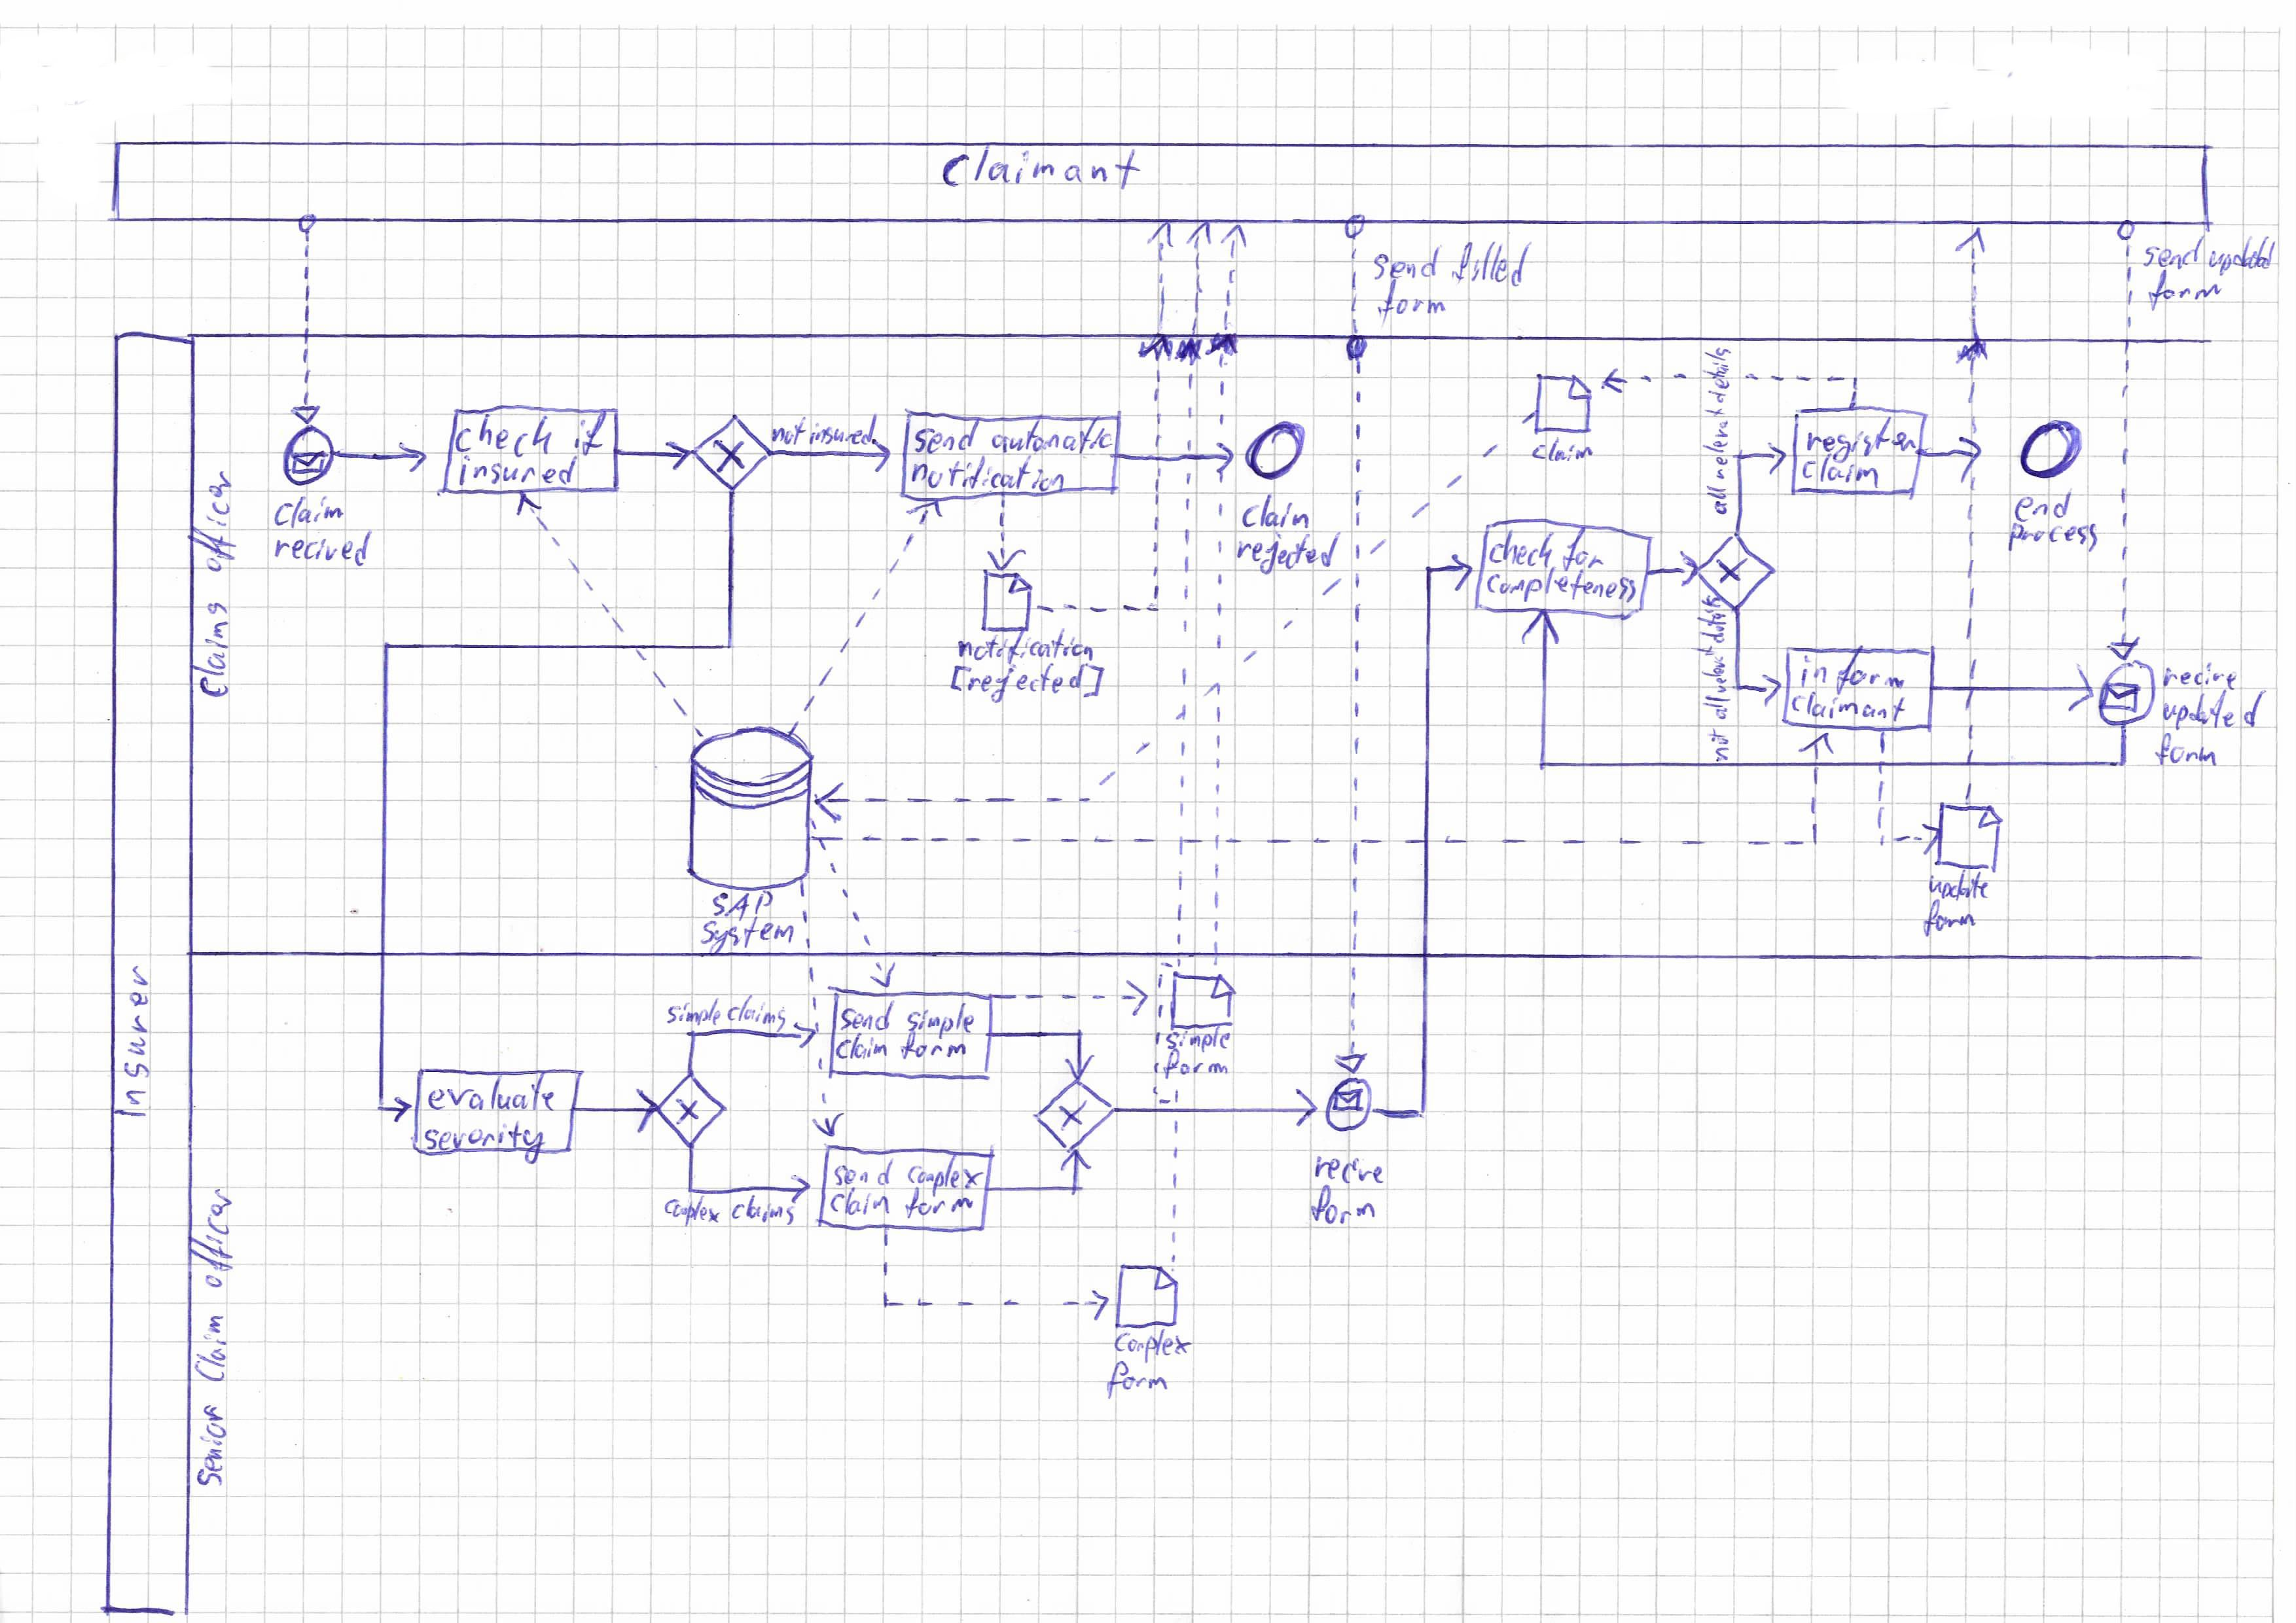Claim: (193, 1312, 234, 1386), (274, 499, 350, 529), (831, 1191, 889, 1214), (836, 1036, 891, 1059)
Claims: (195, 601, 230, 696)
Complex: (1110, 1330, 1193, 1361), (903, 1161, 982, 1189)
Insurer: (116, 963, 155, 1121)
SAP: (711, 889, 773, 917)
Send: (831, 1161, 891, 1186)
Senior: (193, 1403, 228, 1490)
Simple: (1163, 1026, 1231, 1052)
System: (699, 920, 794, 952)
[rejected]: (950, 664, 1101, 699)
all: (1704, 487, 1732, 518), (1700, 697, 1734, 722)
automatic: (994, 422, 1114, 458)
check: (450, 411, 555, 460), (1493, 529, 1553, 569)
claim: (1795, 453, 1885, 490), (1240, 495, 1312, 536), (1532, 437, 1595, 467)
claimant: (943, 149, 1144, 191), (1794, 690, 1906, 720)
claims: (729, 1198, 798, 1228), (722, 1003, 789, 1026)
completeness: (1481, 571, 1637, 604)
complex: (662, 1194, 722, 1228)
details: (1704, 346, 1734, 404), (1700, 606, 1732, 645)
end: (2017, 492, 2073, 520)
evaluate: (425, 1078, 559, 1112)
filled: (1451, 242, 1530, 292)
for: (1556, 532, 1609, 573)
form: (1307, 1186, 1381, 1228), (2145, 272, 2226, 304), (2154, 736, 2224, 771), (903, 1189, 977, 1219), (1379, 293, 1449, 323), (1107, 1367, 1172, 1395), (899, 1036, 968, 1063), (1927, 903, 1976, 934), (1166, 1056, 1230, 1077)
if: (571, 413, 611, 457)
inform: (1799, 655, 1908, 694)
insured: (450, 455, 576, 485), (810, 420, 877, 444)
not: (769, 413, 808, 451), (1702, 727, 1736, 761)
notification: (901, 460, 1068, 494), (956, 634, 1101, 667)
officer: (193, 1187, 237, 1293), (199, 472, 237, 576)
process: (2008, 522, 2097, 552)
receive: (1310, 1154, 1386, 1187), (2164, 664, 2240, 689)
recived: (272, 532, 374, 567)
register: (1804, 427, 1917, 453)
rejected: (1231, 532, 1340, 573)
relevant: (1704, 408, 1734, 481), (1700, 646, 1727, 696)
send: (2138, 232, 2199, 274), (912, 422, 978, 457), (1374, 249, 1440, 279), (838, 1005, 892, 1029)
severity: (418, 1122, 545, 1149)
simple: (905, 1005, 975, 1036), (664, 1001, 717, 1033)
update: (1927, 873, 1990, 905)
updated: (2162, 697, 2266, 729), (2206, 237, 2277, 274)
